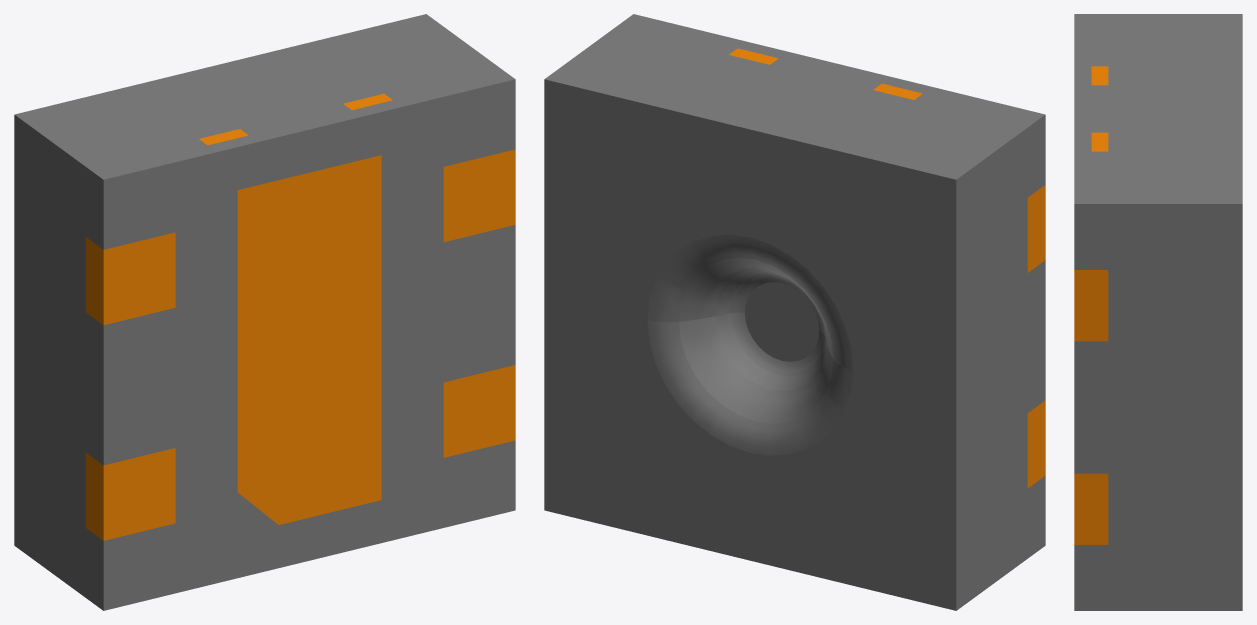
Rendered from sfe-shtc3.glb.
3 renders of one model, left to right at view 1: azimuth 30°, elevation 25°; view 2: azimuth 150°, elevation 25°; view 3: azimuth 270°, elevation 25°, orthographic. The views are drawn at different scales.
Visible parts, largest first — view 1: 0.25_0.25_0.25_0, 0.9166666666666666_0.25_0_0; view 2: 0.25_0.25_0.25_0, 0.9166666666666666_0.25_0_0; view 3: 0.25_0.25_0.25_0, 0.9166666666666666_0.25_0_0.
Part boxes in pixels (bbox=[...]): 0.25_0.25_0.25_0: bbox=[14, 14, 515, 610]; 0.9166666666666666_0.25_0_0: bbox=[85, 94, 515, 540]; 0.25_0.25_0.25_0: bbox=[544, 14, 1045, 610]; 0.9166666666666666_0.25_0_0: bbox=[729, 48, 1045, 488]; 0.25_0.25_0.25_0: bbox=[1074, 14, 1242, 610]; 0.9166666666666666_0.25_0_0: bbox=[1074, 66, 1108, 544].
Bounding box in the file's own units: 0.2 × 0.2 × 0.075.
